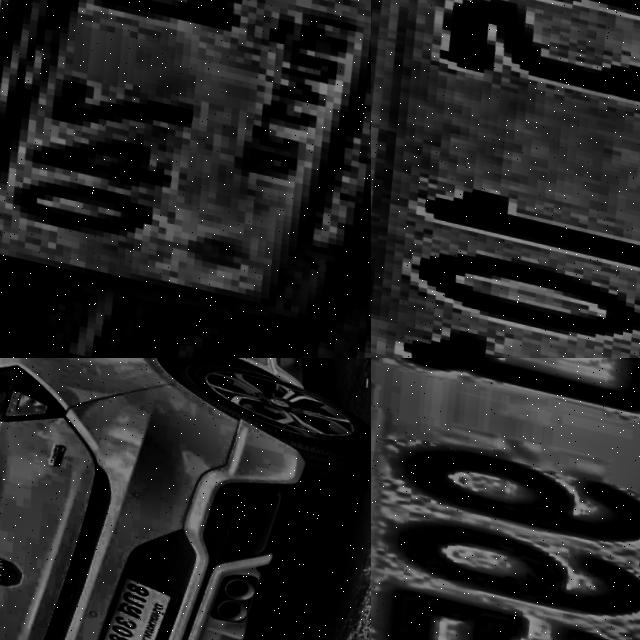license-plate: (0, 0, 371, 358), (371, 0, 640, 358), (371, 358, 640, 640), (82, 561, 177, 640)
